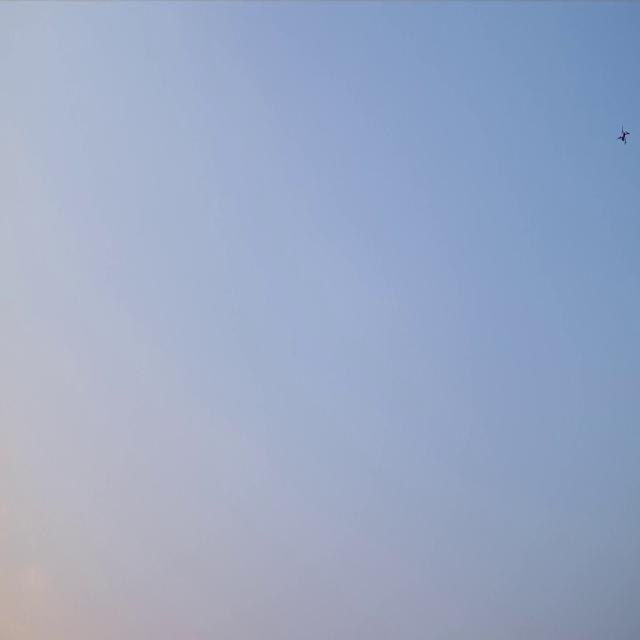UAV: (616, 125, 630, 145)
